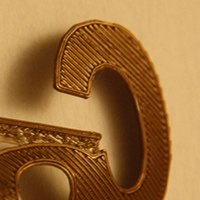3dptoplayergaps: (71, 157, 122, 195), (57, 48, 104, 88), (111, 35, 151, 79), (26, 150, 70, 162)
